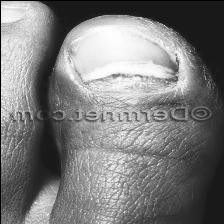Toxin: (66, 14, 210, 88)
